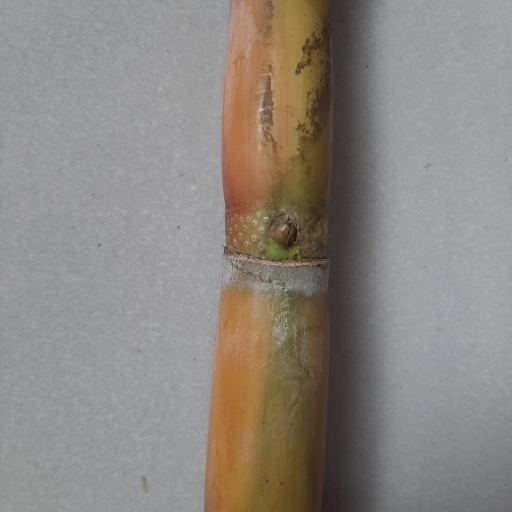Bud: (269, 215, 300, 250)
